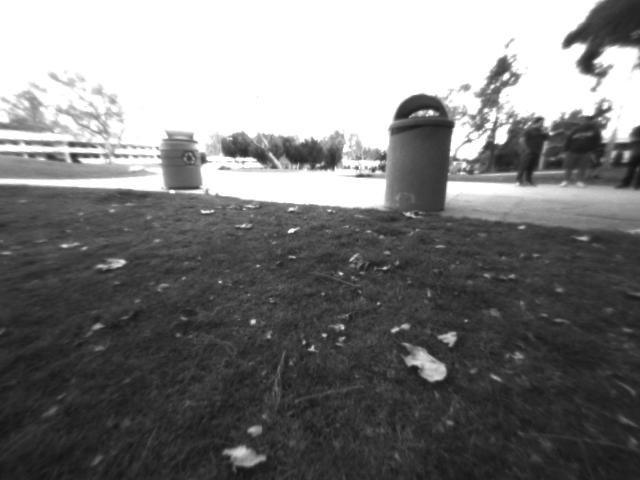trashcan: (382, 82, 455, 220)
